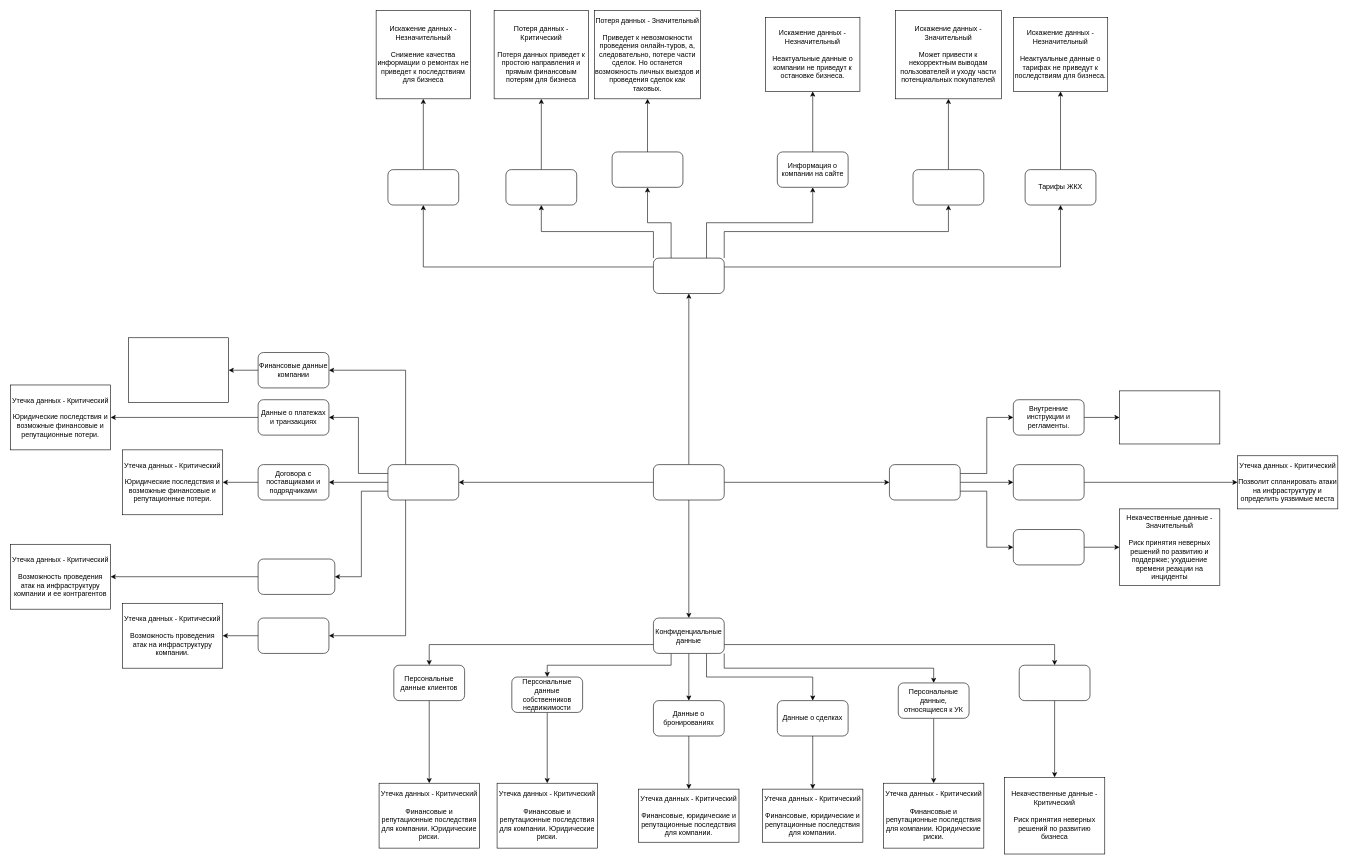
This 1348x864 diagram has some shape labels left out. Each missing label, with the centre of its shape:
"Безопасность данных" goes at (688,482).
"Внутренние данные" goes at (924,482).
"Данные для аутентификации пользователей" goes at (293,635).
"Данные для бизнес-анализа" goes at (1054,683).
"Документация по архитектуре и интеграциям" goes at (1048,482).
"Информация о ремонтах" goes at (423,187).
"Ключи шифрования, сертификаты безопасности, токены для интеграций" goes at (296,576).
"Логи и метрики приложений" goes at (1048,547).
"Медиа для онлайн-туров" goes at (647,169).
"Публичная информация о недвижимости на сайте" goes at (541,187).
"Публичные данные" goes at (688,276).
"Публичные условия сделок, правила бронирования" goes at (948,187).
"Секретные данные" goes at (423,482).
"Утечка данных - Значительный Позволит спланировать атаки через соц инженерию" goes at (1169,417).
"Утечка данных - Критический Возможные финансовые и репутационные потери." goes at (178,370).
